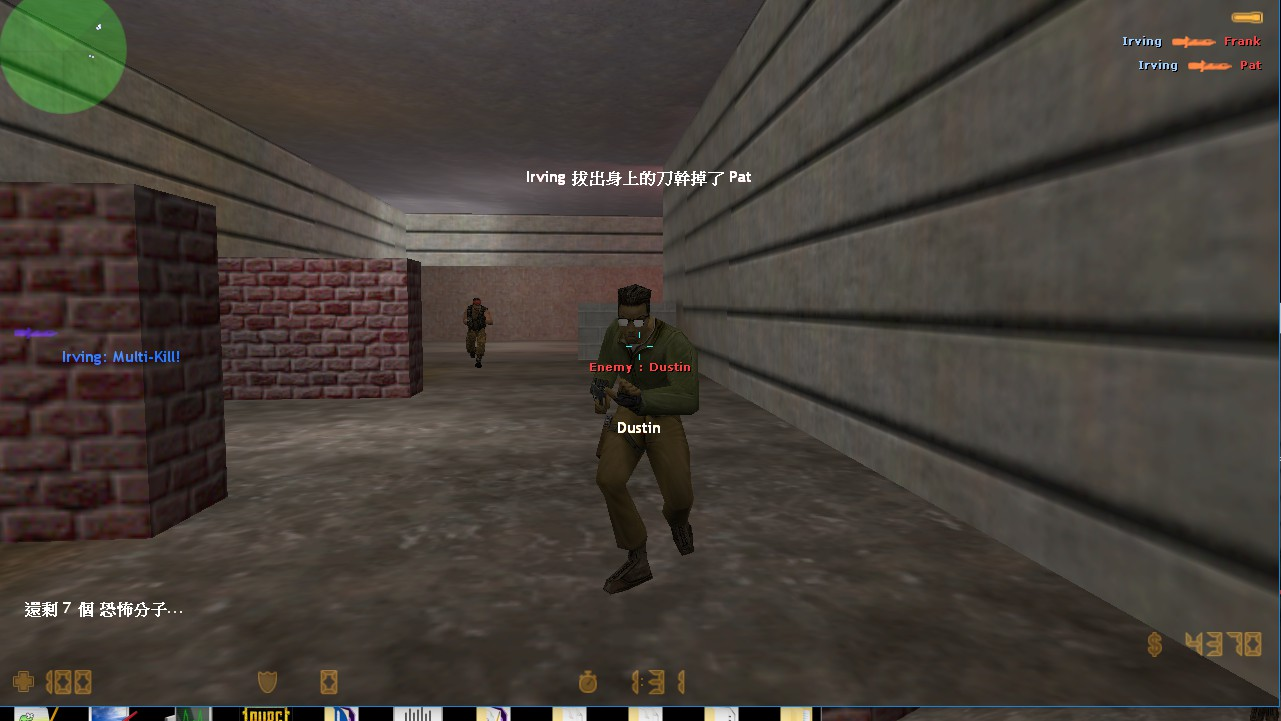person: (579, 285, 722, 595), (459, 292, 497, 372)
